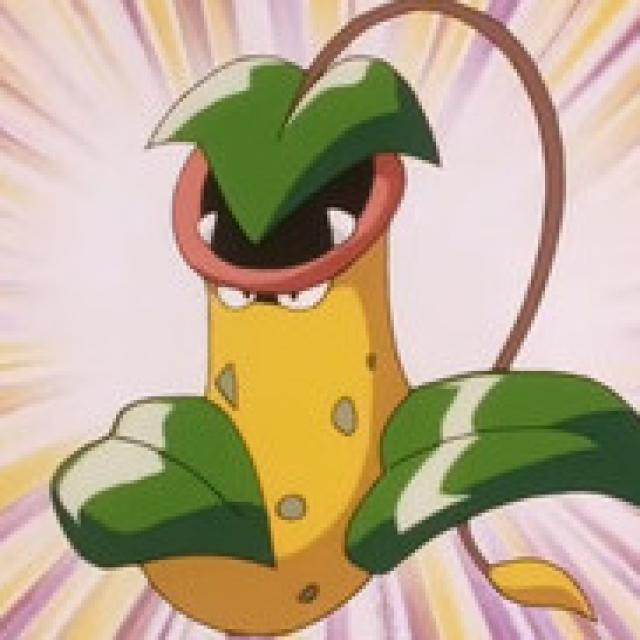Victreebel: (164, 63, 418, 632)
